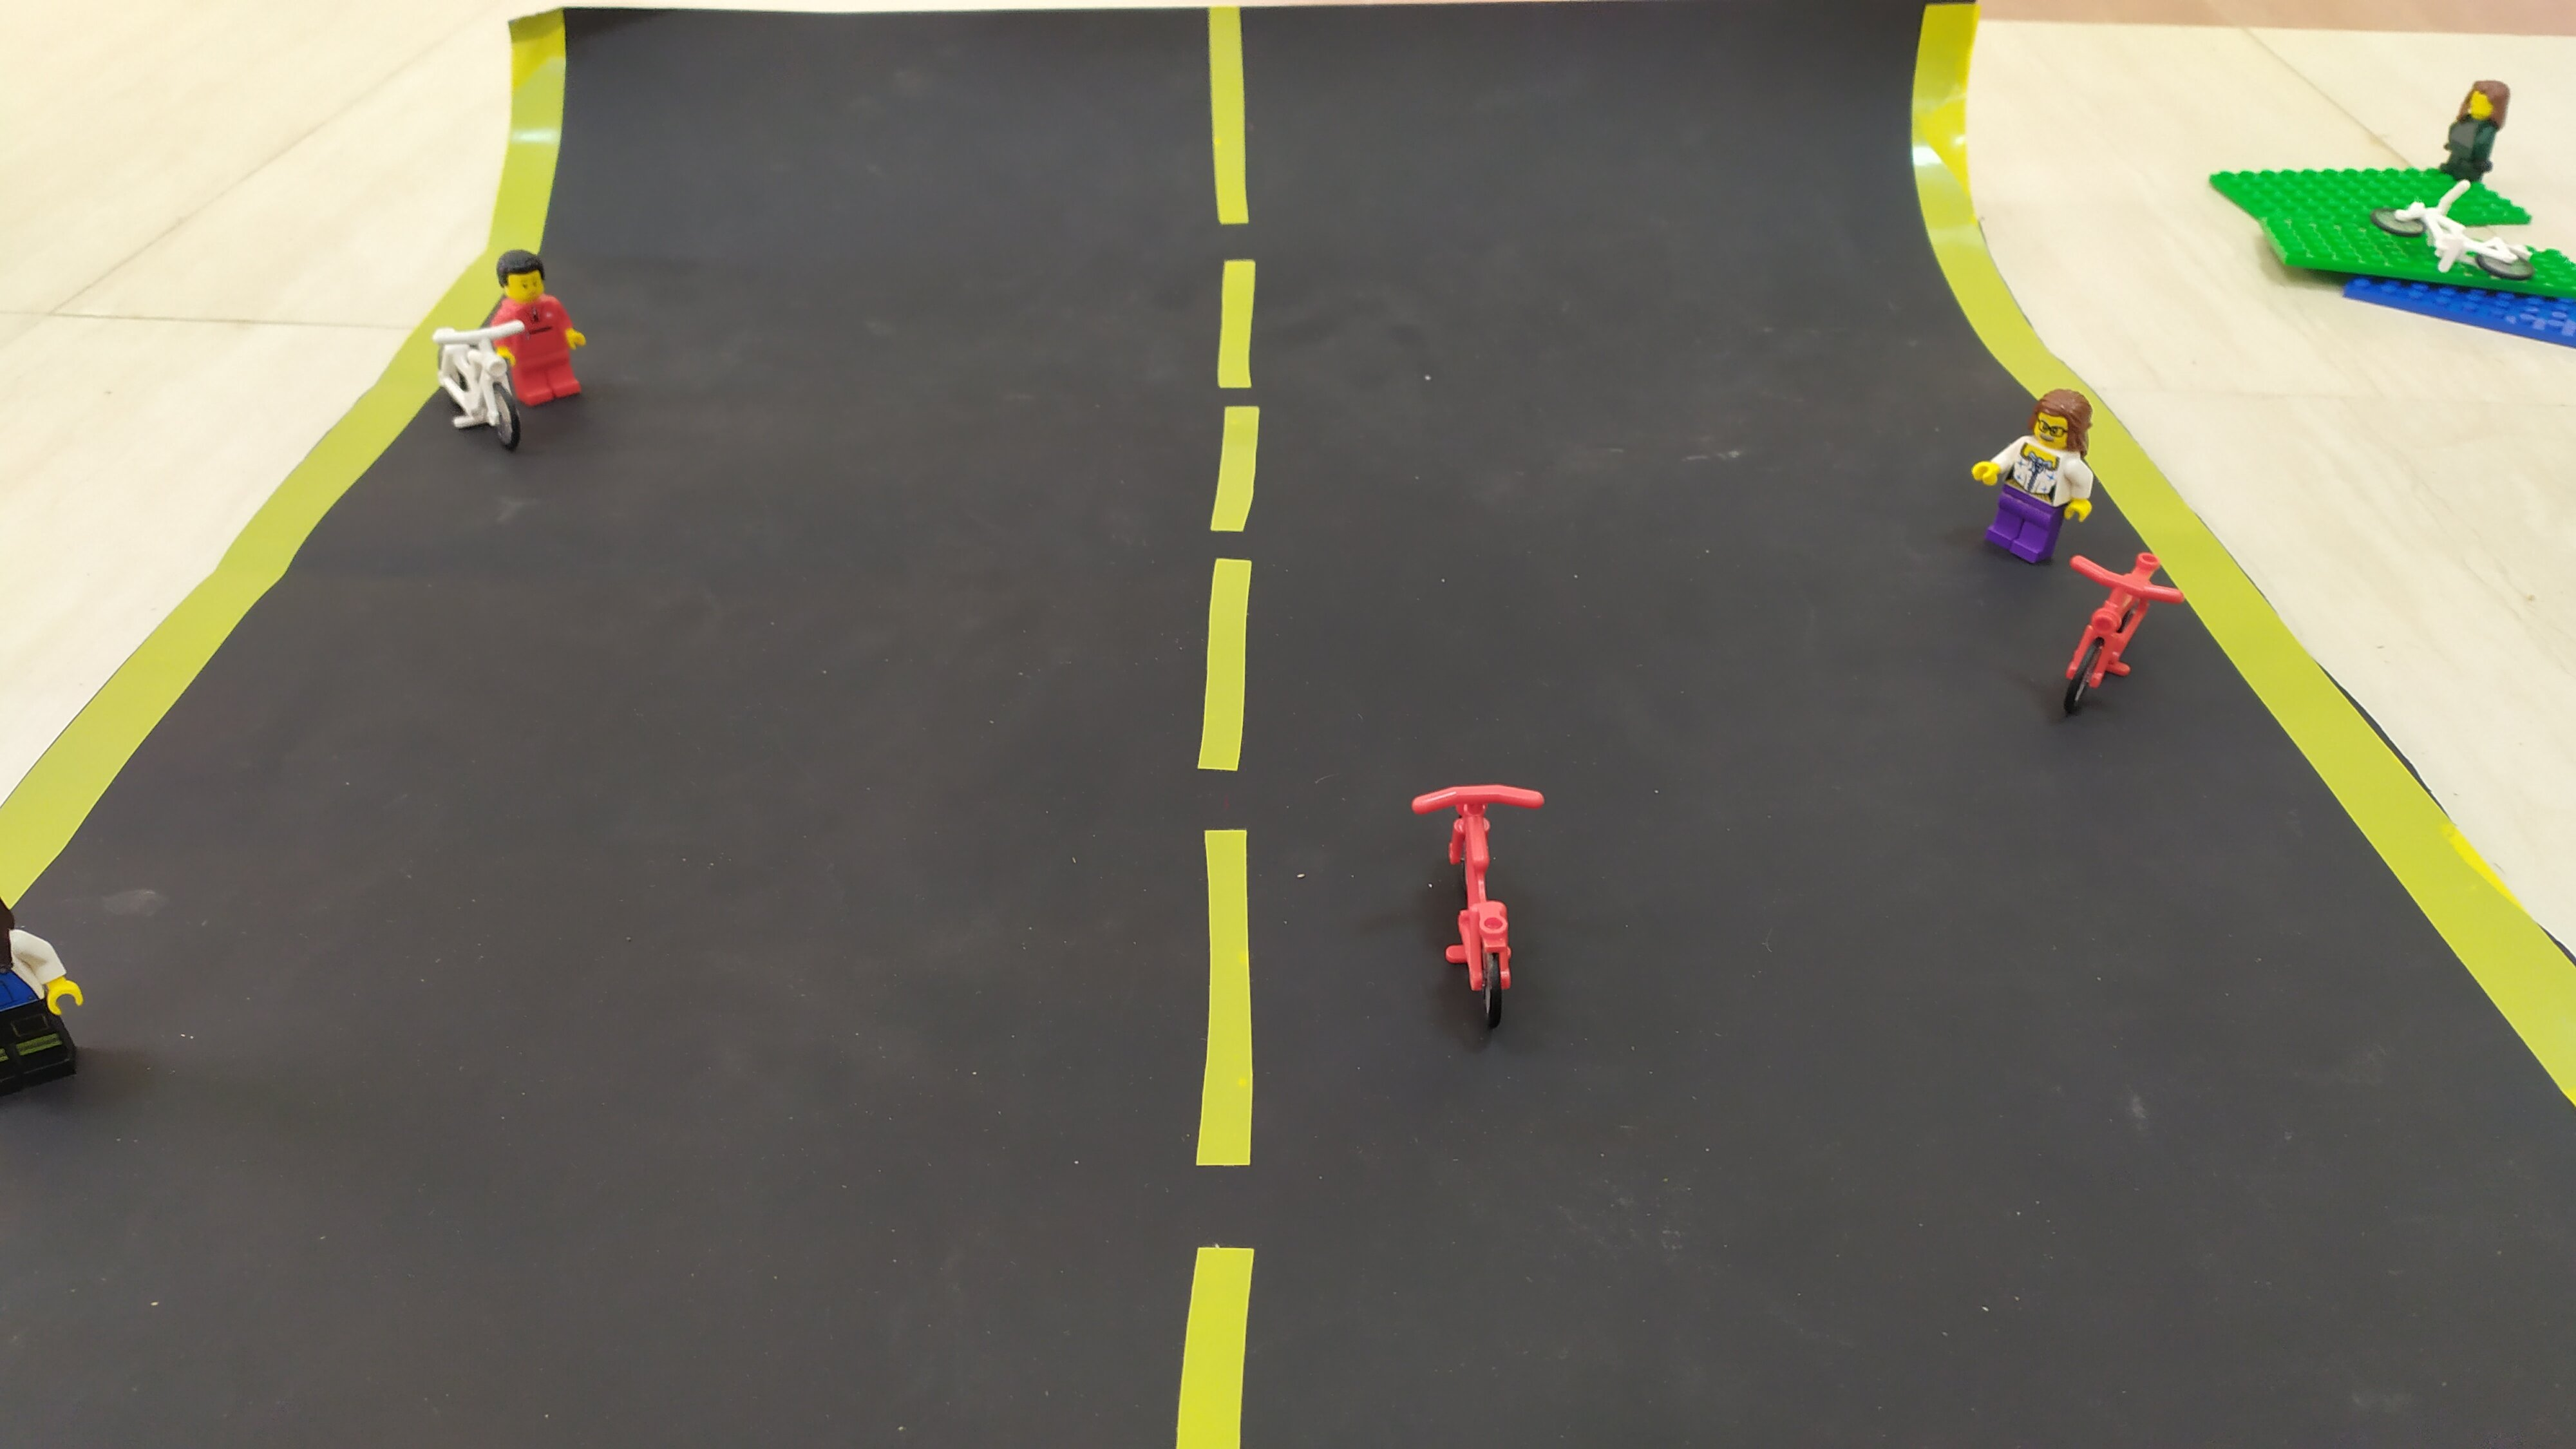person: (1961, 409, 2148, 563), (1, 873, 100, 1080), (493, 241, 576, 435)
